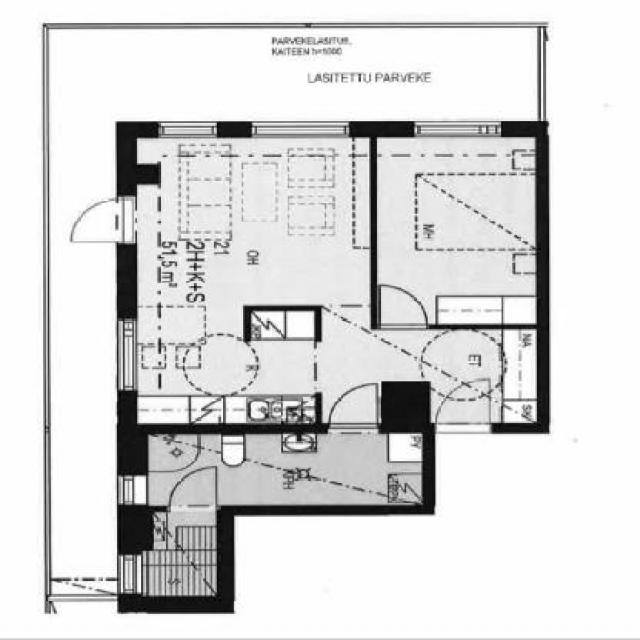door: (372, 282, 436, 336), (434, 378, 494, 432), (71, 199, 137, 246), (322, 382, 383, 428), (163, 469, 225, 511)
window: (252, 121, 352, 137), (414, 118, 501, 136), (120, 323, 138, 391), (160, 123, 218, 139), (120, 558, 138, 594), (120, 477, 137, 503)
zone: (132, 136, 383, 424), (380, 132, 537, 322), (149, 436, 423, 504), (383, 323, 535, 426), (137, 511, 226, 597)
